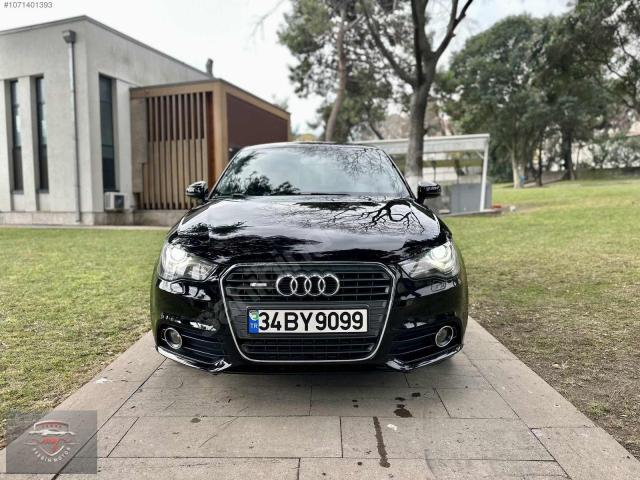plaka: (249, 308, 368, 333)
